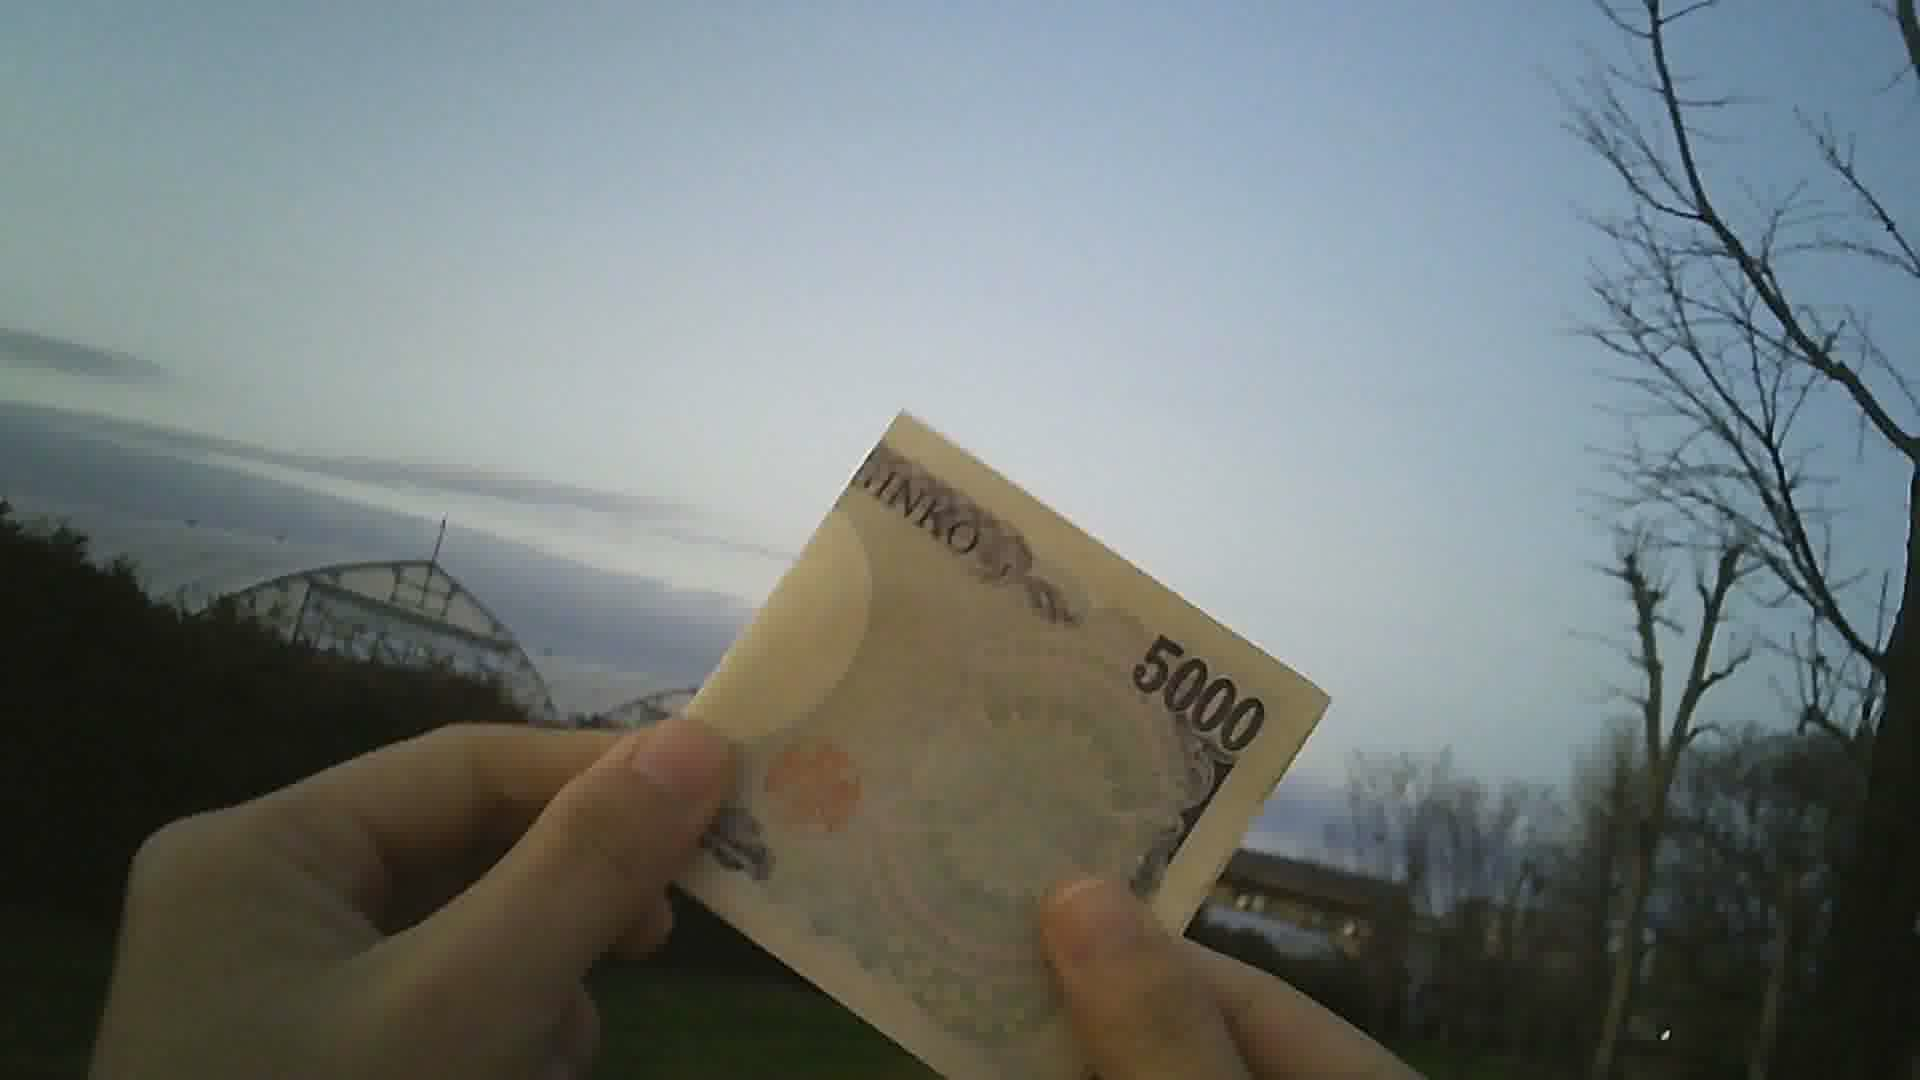5,000 Yen: (640, 392, 1309, 1079)
